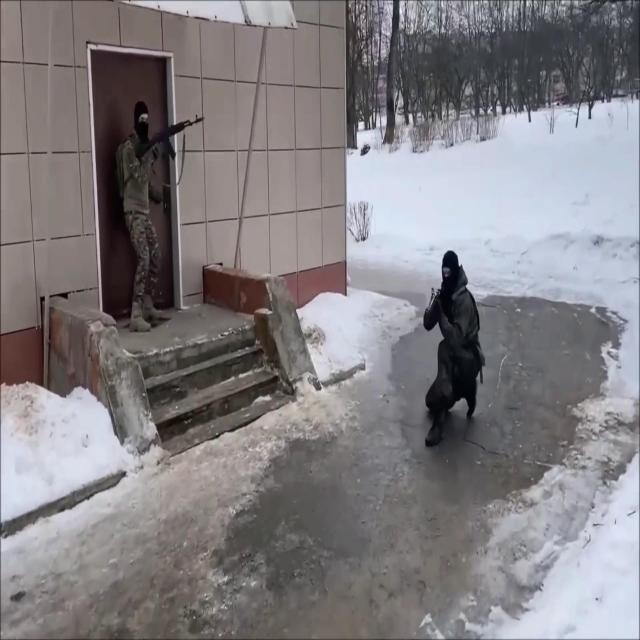pistol: (136, 110, 207, 166), (423, 286, 446, 320)
